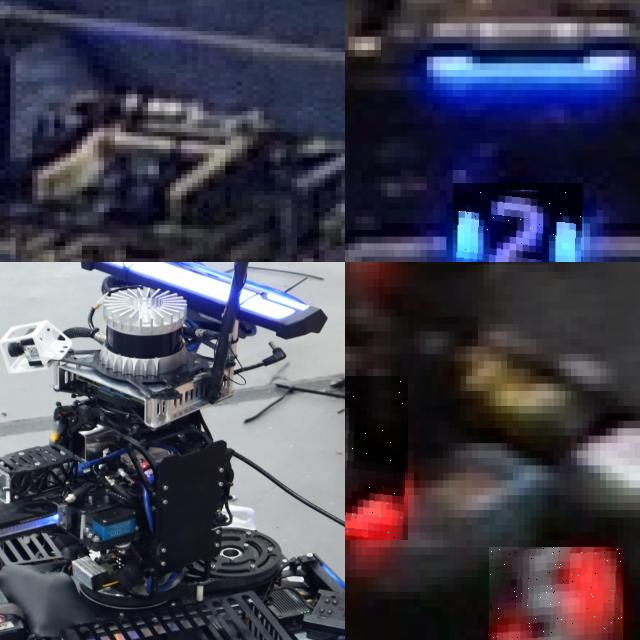B2: (452, 183, 583, 262)
R5: (489, 547, 623, 640), (345, 376, 408, 539)
